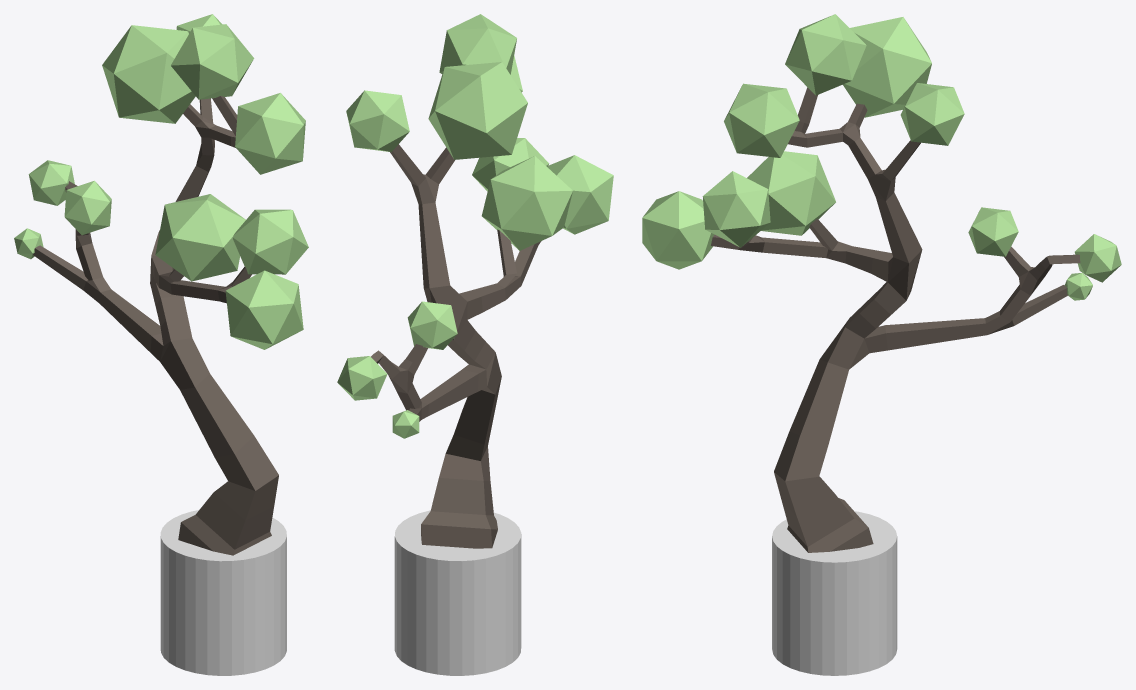
The model's file is tree_munro3.glb.
The picture shows the model from 3 angles, left to right: view 1: azimuth 30°, elevation 25°; view 2: azimuth 150°, elevation 25°; view 3: azimuth 270°, elevation 25°; orthographic projection.
Parts seen in each view (by area): view 1: Cube, Cylinder_col, Icosphere.003, Icosphere.002, Icosphere, Icosphere.005, Icosphere.004, Icosphere.001, Icosphere.007, Icosphere.008, Icosphere.009; view 2: Cube, Cylinder_col, Icosphere.003, Icosphere.002, Icosphere, Icosphere.006, Icosphere.004, Icosphere.007, Icosphere.008, Icosphere.001, Icosphere.009; view 3: Cube, Cylinder_col, Icosphere.003, Icosphere.002, Icosphere.004, Icosphere.005, Icosphere, Icosphere.001, Icosphere.006, Icosphere.007, Icosphere.008.
Boxes of the visible parts, left/top/right/bottom form: Cube: left=33, top=96, right=278, bottom=555; Cylinder_col: left=160, top=510, right=286, bottom=675; Icosphere.003: left=102, top=25, right=195, bottom=123; Icosphere.002: left=155, top=194, right=245, bottom=281; Icosphere: left=225, top=270, right=303, bottom=349; Icosphere.005: left=235, top=93, right=305, bottom=174; Icosphere.004: left=171, top=24, right=254, bottom=99; Icosphere.001: left=233, top=209, right=308, bottom=274; Icosphere.007: left=64, top=180, right=111, bottom=235; Icosphere.008: left=28, top=160, right=74, bottom=205; Icosphere.009: left=14, top=228, right=43, bottom=259; Cube: left=371, top=144, right=541, bottom=548; Cylinder_col: left=394, top=510, right=521, bottom=675; Icosphere.003: left=428, top=62, right=527, bottom=159; Icosphere.002: left=481, top=156, right=572, bottom=250; Icosphere: left=547, top=155, right=613, bottom=234; Icosphere.006: left=346, top=90, right=409, bottom=152; Icosphere.004: left=439, top=14, right=516, bottom=74; Icosphere.007: left=407, top=301, right=457, bottom=349; Icosphere.008: left=337, top=356, right=387, bottom=400; Icosphere.001: left=472, top=138, right=549, bottom=191; Icosphere.009: left=392, top=410, right=419, bottom=438; Cube: left=711, top=87, right=1080, bottom=552; Cylinder_col: left=772, top=511, right=897, bottom=675; Icosphere.003: left=843, top=17, right=931, bottom=117; Icosphere.002: left=747, top=151, right=835, bottom=235; Icosphere.004: left=785, top=14, right=866, bottom=95; Icosphere.005: left=724, top=83, right=799, bottom=157; Icosphere: left=642, top=191, right=714, bottom=269; Icosphere.001: left=702, top=171, right=770, bottom=247; Icosphere.006: left=900, top=83, right=964, bottom=145; Icosphere.007: left=968, top=207, right=1018, bottom=256; Icosphere.008: left=1074, top=234, right=1121, bottom=282.
Bounding box in the file's own units: 3.39 × 13.43 × 9.4.
